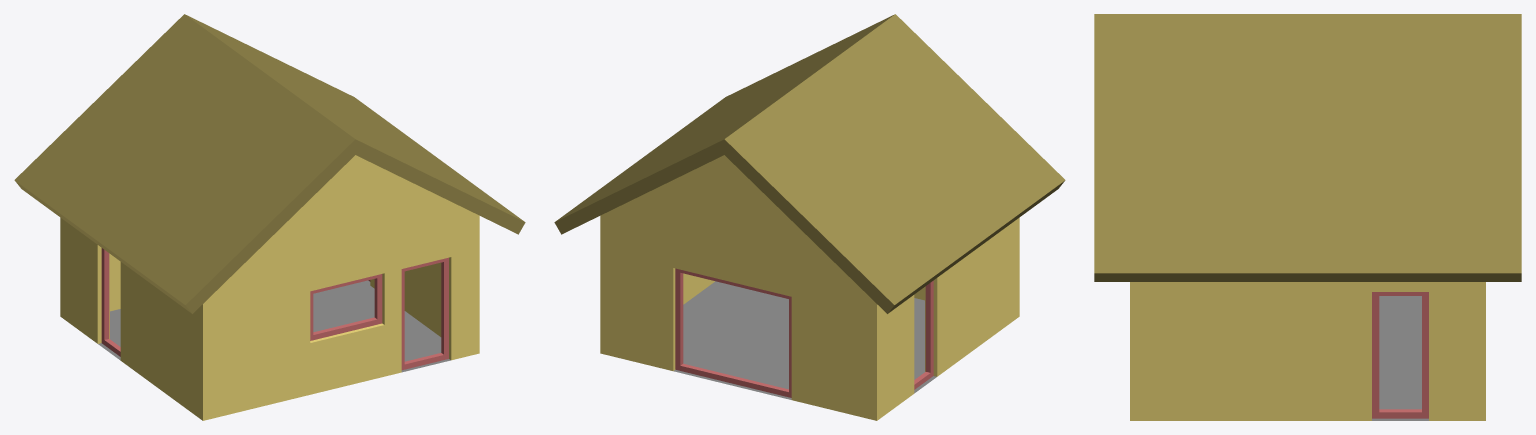
The model's file is result.glb.
The picture shows the model from 3 angles, left to right: view 1: azimuth 30°, elevation 25°; view 2: azimuth 150°, elevation 25°; view 3: azimuth 270°, elevation 25°; orthographic projection. The views are drawn at different scales.
Parts seen in each view (by area): view 1: da51c8b3-b0ff-4479-ab9f-7b9a61ff2880__undefined (×2), 80eaf83e-cfb4-4e3b-9835-47851cf0cbeb__undefined, 37673141-0074-4029-bfd4-99874b2ed1c9__Plane_6, 19d4df6a-f4e2-41c1-b663-fa330824fc33__Box, 25c2a79b-9b16-46fa-bf96-e36e848231fd__Box_3, 0c899c66-ecfc-42bf-bb47-090a88081827__Box_12; view 2: da51c8b3-b0ff-4479-ab9f-7b9a61ff2880__undefined (×2), 80eaf83e-cfb4-4e3b-9835-47851cf0cbeb__undefined, 37673141-0074-4029-bfd4-99874b2ed1c9__Plane_6, bde91c8b-7f5d-42d3-8d4c-0da50b1cdbba__Box_9, 0c899c66-ecfc-42bf-bb47-090a88081827__Box_12; view 3: da51c8b3-b0ff-4479-ab9f-7b9a61ff2880__undefined, 80eaf83e-cfb4-4e3b-9835-47851cf0cbeb__undefined, 37673141-0074-4029-bfd4-99874b2ed1c9__Plane_6, 951afc69-983e-4489-b21d-9a5f53ff429a__Box_15.
Part boxes in pixels (left/top/right/bottom): da51c8b3-b0ff-4479-ab9f-7b9a61ff2880__undefined (×2): left=14, top=14, right=525, bottom=313; 80eaf83e-cfb4-4e3b-9835-47851cf0cbeb__undefined: left=60, top=155, right=479, bottom=420; 37673141-0074-4029-bfd4-99874b2ed1c9__Plane_6: left=98, top=280, right=450, bottom=372; 19d4df6a-f4e2-41c1-b663-fa330824fc33__Box: left=401, top=257, right=448, bottom=370; 25c2a79b-9b16-46fa-bf96-e36e848231fd__Box_3: left=310, top=274, right=382, bottom=340; 0c899c66-ecfc-42bf-bb47-090a88081827__Box_12: left=101, top=248, right=120, bottom=356; da51c8b3-b0ff-4479-ab9f-7b9a61ff2880__undefined (×2): left=554, top=14, right=1065, bottom=313; 80eaf83e-cfb4-4e3b-9835-47851cf0cbeb__undefined: left=600, top=155, right=1019, bottom=420; 37673141-0074-4029-bfd4-99874b2ed1c9__Plane_6: left=673, top=281, right=936, bottom=399; bde91c8b-7f5d-42d3-8d4c-0da50b1cdbba__Box_9: left=675, top=268, right=791, bottom=397; 0c899c66-ecfc-42bf-bb47-090a88081827__Box_12: left=914, top=280, right=933, bottom=389; da51c8b3-b0ff-4479-ab9f-7b9a61ff2880__undefined: left=1094, top=14, right=1521, bottom=281; 80eaf83e-cfb4-4e3b-9835-47851cf0cbeb__undefined: left=1130, top=282, right=1485, bottom=420; 37673141-0074-4029-bfd4-99874b2ed1c9__Plane_6: left=1372, top=296, right=1428, bottom=420; 951afc69-983e-4489-b21d-9a5f53ff429a__Box_15: left=1372, top=292, right=1428, bottom=418.
Size of the model in its own units: 689 by 500 by 600.
